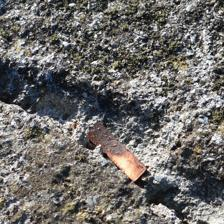Crack: (4, 25, 163, 110)
